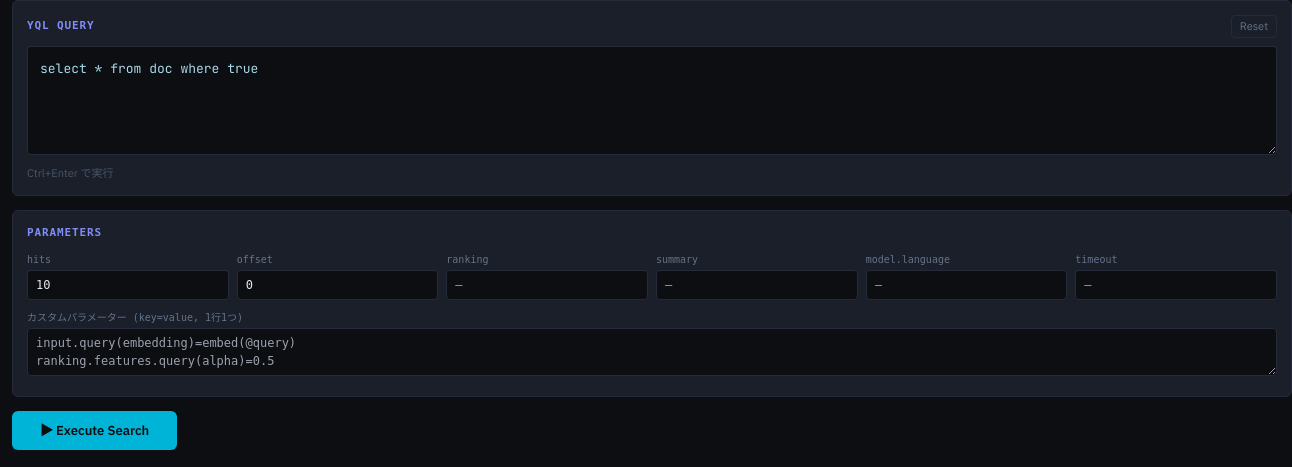
it: SearchPanel › YQL を変更後、Resetボタンをクリックすると初期値に戻る
This screenshot has width=1292, height=467.
//  YQL を変更
Replace the text in the text box with placeholder "select * from sources * where userQuery()" with "select * from news where true" at {"x": 652, "y": 100}, box [27,46,1277,155]
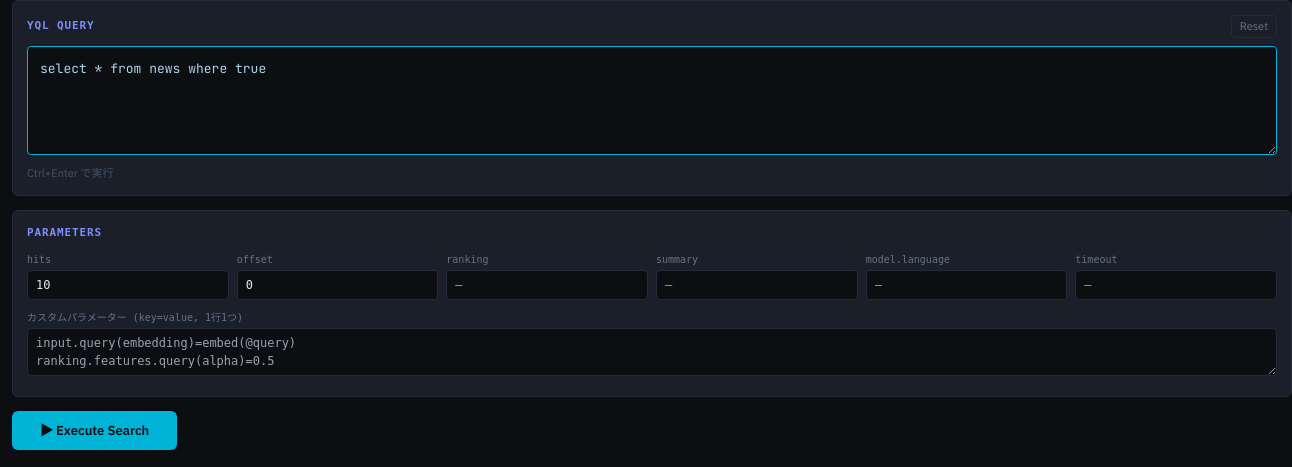
// Reset クリック
Click the button "Reset".
click(1254, 26)  # box [1231,15,1277,38]
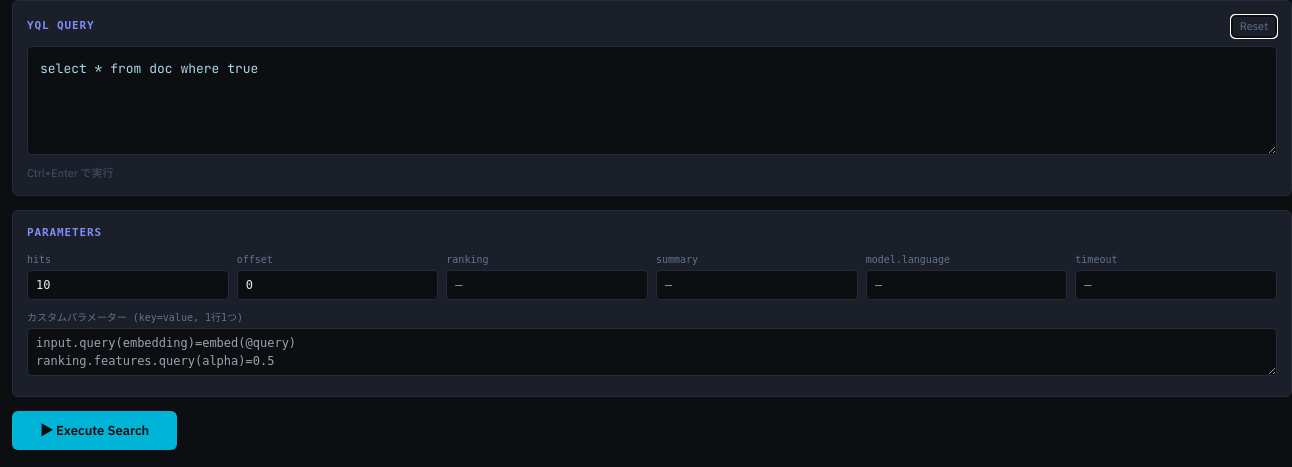
Check: the text box with placeholder "select * from sources * where userQuery()" holds "select * from doc where true", box [27,46,1277,155]
